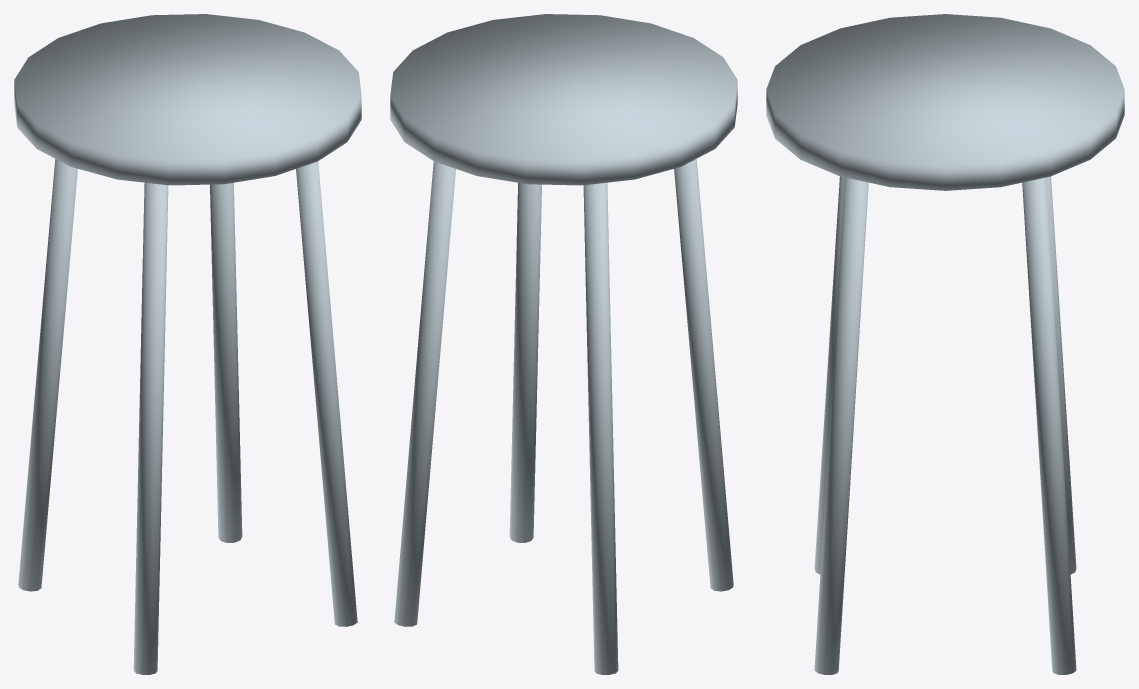
File: crystal stool.glb
3 views of the same model, side by side, from view 1: azimuth 30°, elevation 25°; view 2: azimuth 150°, elevation 25°; view 3: azimuth 270°, elevation 25° (orthographic). The views are drawn at different scales.
Parts seen in each view (by area): view 1: CrystalHighStool; view 2: CrystalHighStool; view 3: CrystalHighStool.
Boxes of the visible parts, x1,y1,x2,y2 form: CrystalHighStool: (14,14,361,674); CrystalHighStool: (390,14,737,674); CrystalHighStool: (766,14,1124,674).
Bounding box in the file's own units: 0.64 × 1.05 × 0.64.
